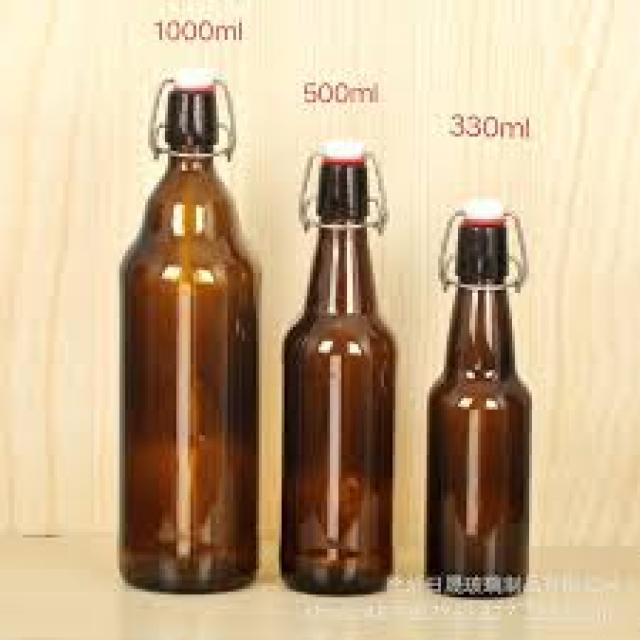glass: (119, 88, 256, 592), (279, 162, 393, 592), (421, 219, 529, 597)
plastic: (313, 137, 367, 160), (165, 66, 213, 89), (461, 194, 503, 217)
